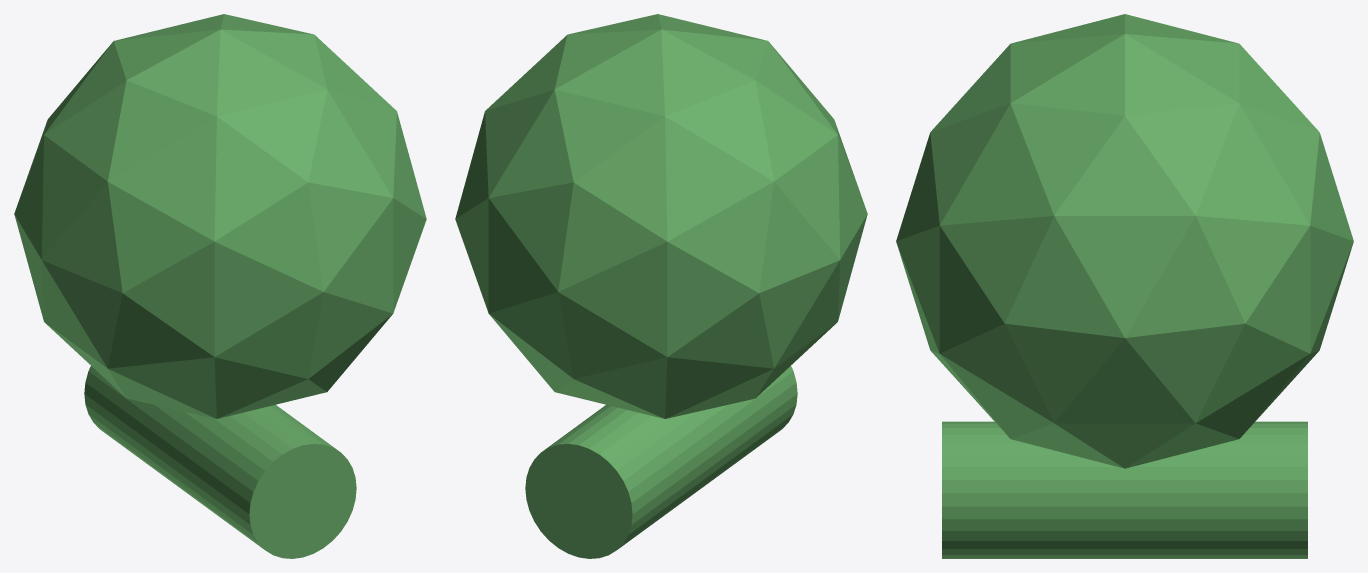
The model's file is model_44fbb5de.glb.
3 renders of one model, left to right at view 1: azimuth 30°, elevation 25°; view 2: azimuth 150°, elevation 25°; view 3: azimuth 270°, elevation 25°, orthographic. The views are drawn at different scales.
Parts seen in each view (by area): view 1: world; view 2: world; view 3: world.
Part boxes in pixels (<box>): world: <box>14,14,426,558</box>; world: <box>455,14,867,558</box>; world: <box>896,14,1353,558</box>.
Size of the model in its own units: 1 by 1.25 by 1.
